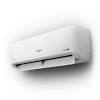ac: (9, 23, 96, 75)
